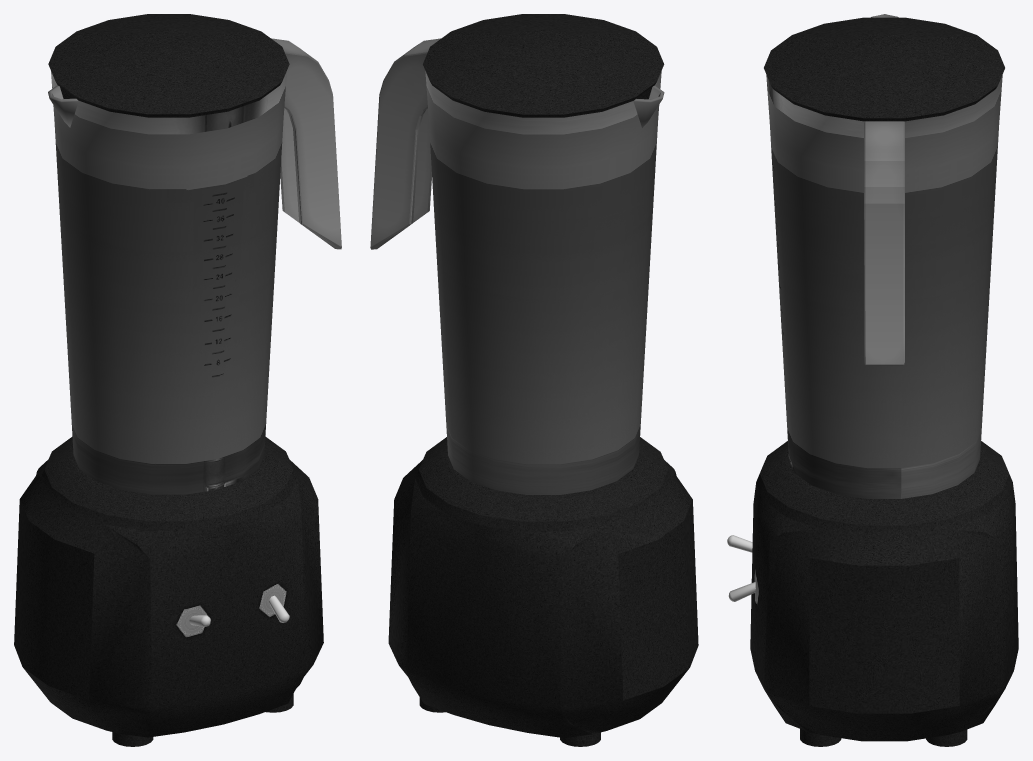
The model's file is Blender01.FBX.
3 views of the same model, side by side, from view 1: azimuth 30°, elevation 25°; view 2: azimuth 150°, elevation 25°; view 3: azimuth 270°, elevation 25° (orthographic).
Visible parts, largest first — view 1: Blender01; view 2: Blender01; view 3: Blender01.
Boxes of the visible parts, x1,y1,x2,y2 form: Blender01: (14, 14, 341, 746); Blender01: (370, 14, 698, 746); Blender01: (727, 14, 1018, 746).
Bounding box in the file's own units: 21.09 × 44.23 × 17.9.
